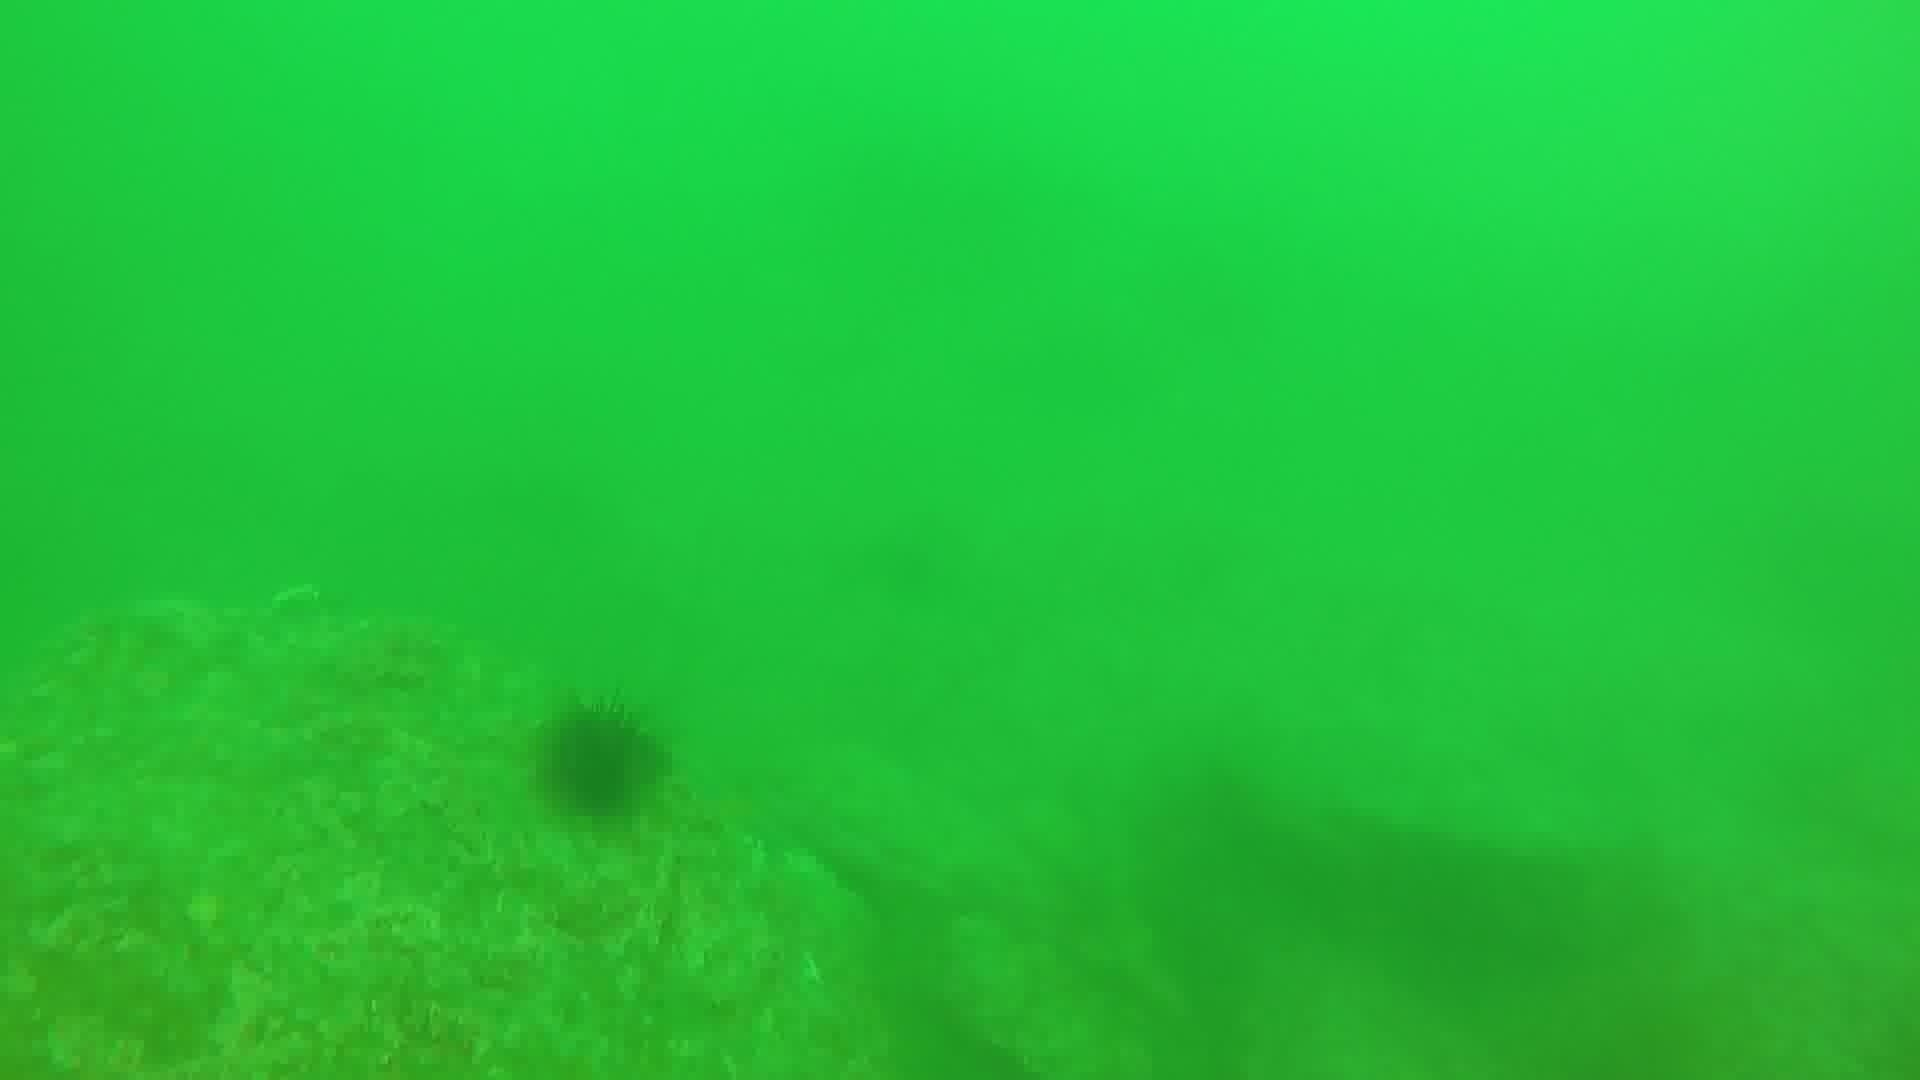echinus: (534, 694, 676, 825)
